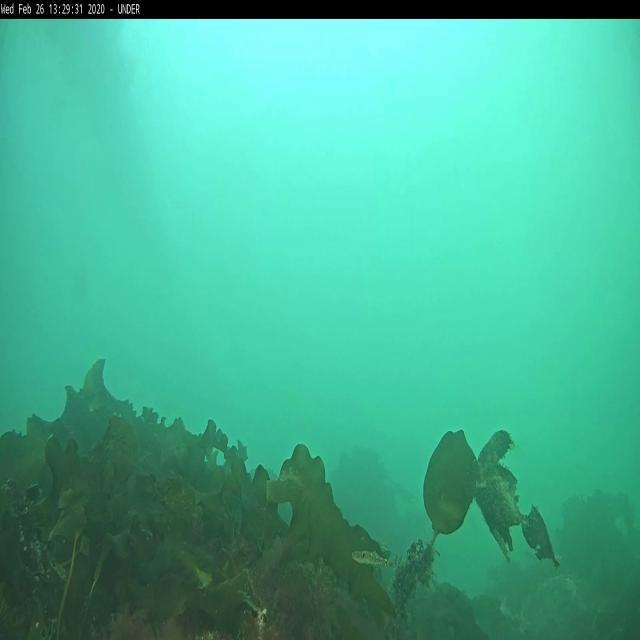fish: (351, 547, 394, 568)
